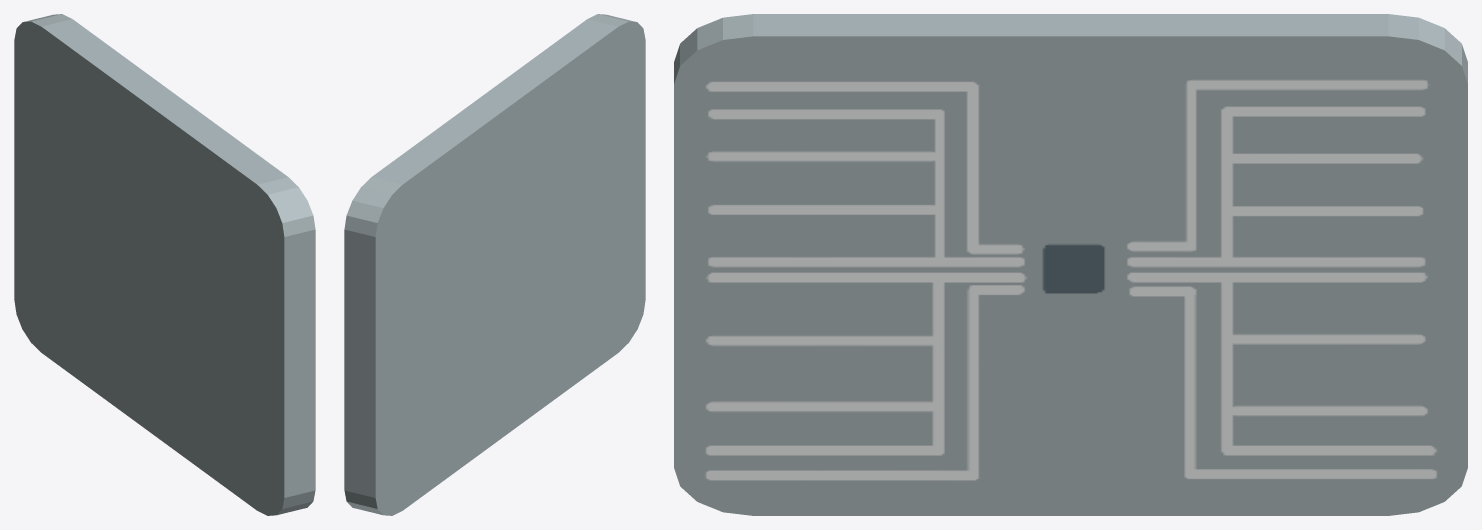
File: Task-redirection.glb
The picture shows the model from 3 angles, left to right: view 1: azimuth 30°, elevation 25°; view 2: azimuth 150°, elevation 25°; view 3: azimuth 270°, elevation 25°; orthographic projection. The views are drawn at different scales.
Visible parts, largest first — view 1: Cube; view 2: Cube; view 3: Cube.
Boxes of the visible parts, bbox=[...] form: Cube: bbox=[14, 14, 315, 515]; Cube: bbox=[344, 14, 645, 515]; Cube: bbox=[674, 14, 1467, 515].
Bounding box in the file's own units: 0.2 × 2 × 3.
1 material, 1 textured.
